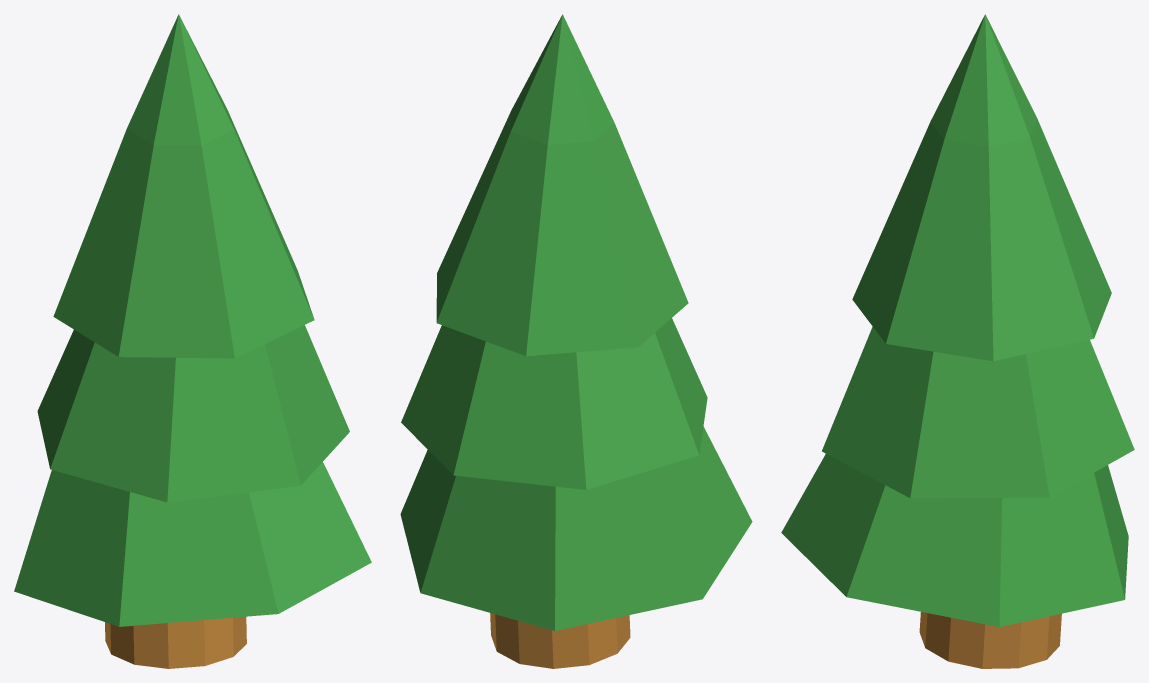
The model's file is tree_16_mesh720331588.glb.
The picture shows the model from 3 angles, left to right: view 1: azimuth 30°, elevation 25°; view 2: azimuth 150°, elevation 25°; view 3: azimuth 270°, elevation 25°; orthographic projection.
Visible parts, largest first — view 1: part_1_mesh720331588, part_2_mesh720331588_1; view 2: part_1_mesh720331588, part_2_mesh720331588_1; view 3: part_1_mesh720331588, part_2_mesh720331588_1.
Part boxes in pixels (x1,y1,x2,y2): part_1_mesh720331588: (14, 14, 371, 626); part_2_mesh720331588_1: (105, 616, 246, 668); part_1_mesh720331588: (400, 14, 752, 630); part_2_mesh720331588_1: (490, 613, 630, 668); part_1_mesh720331588: (781, 14, 1134, 626); part_2_mesh720331588_1: (919, 612, 1061, 668).
Size of the model in its own units: 0.2269 by 0.4419 by 0.2252.
